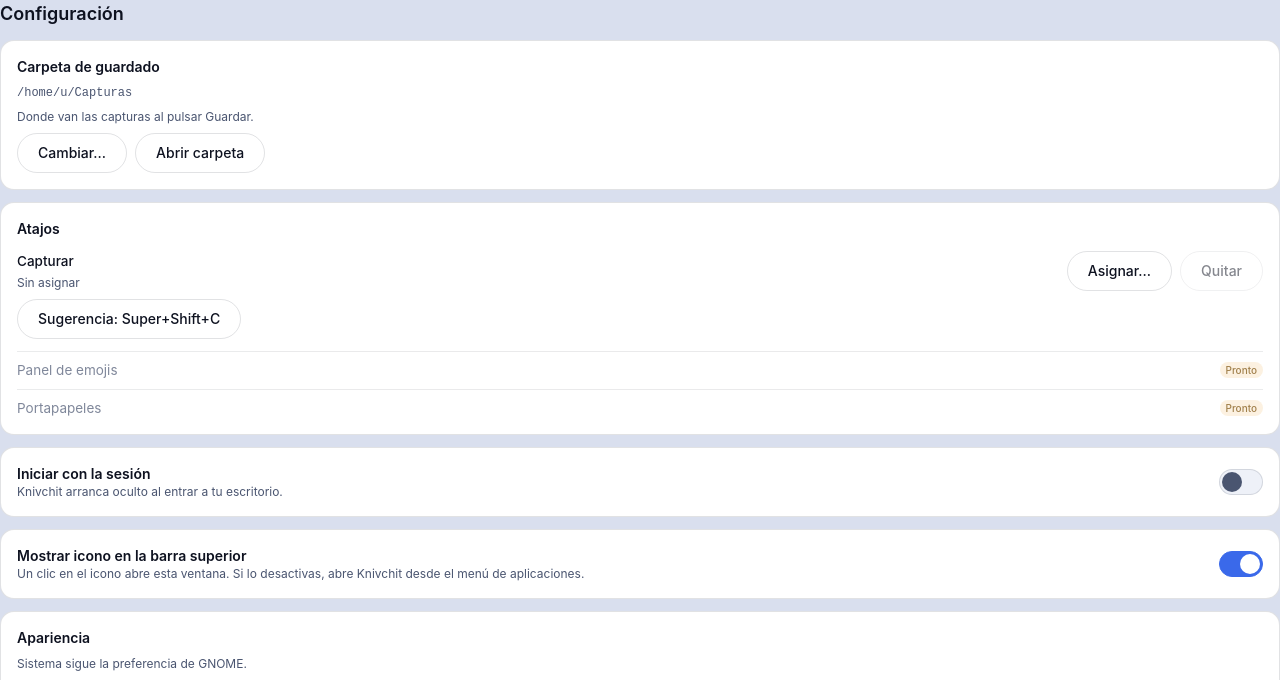
Test case: PageSettings — carpeta › avisa si no se puede abrir la carpeta
expect the text "/home/u/Capturas" is shown: met, box [17,86,132,100]
Click the button "Abrir carpeta".
click(200, 153)  # box [135,133,265,173]
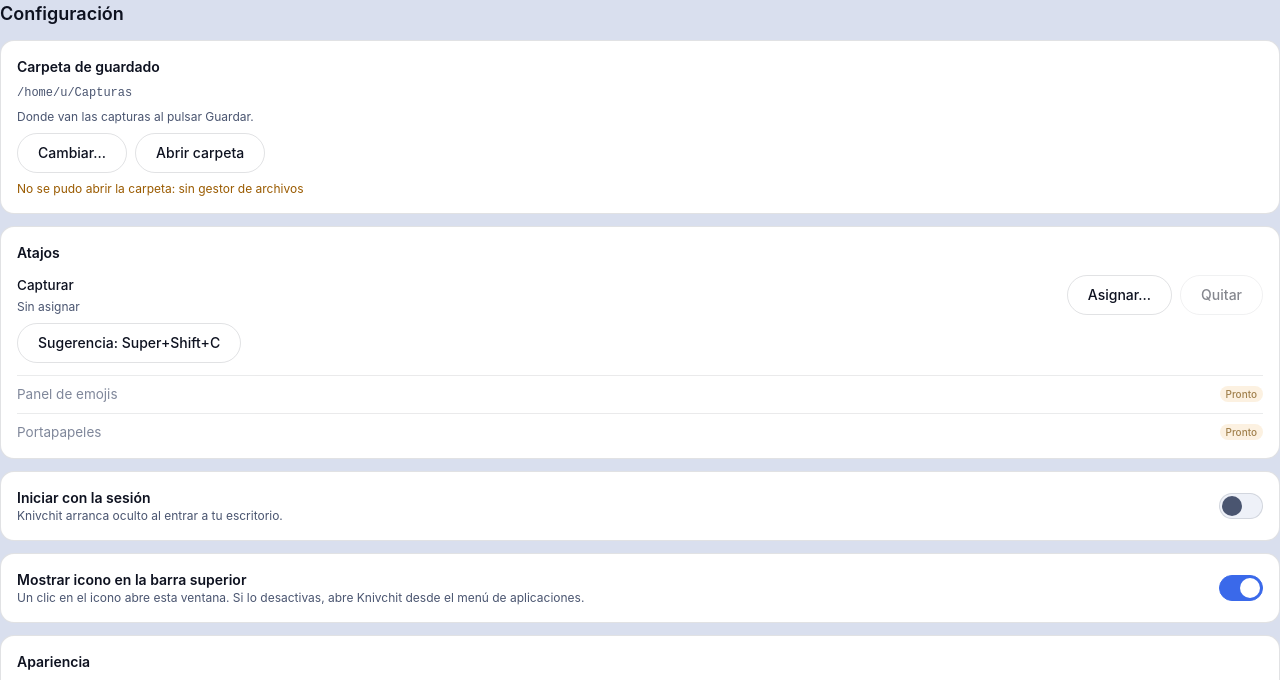
expect the message shows "sin gestor de archivos": met, box [17,181,304,196]
